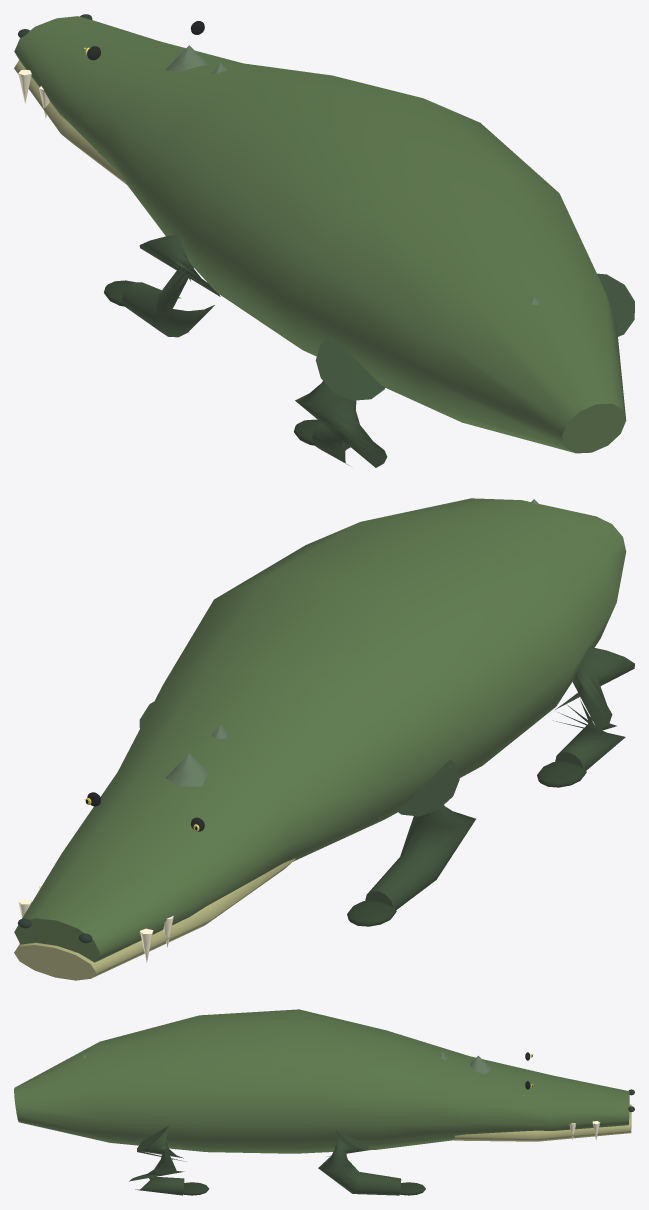
The model's file is crocodile_hero.glb.
3 renders of one model, top to bottom at view 1: azimuth 30°, elevation 25°; view 2: azimuth 150°, elevation 25°; view 3: azimuth 270°, elevation 25°, orthographic. The views are drawn at different scales.
Visible parts, largest first — view 1: CrocodileOrganicBody, Leg_LH, Leg_LF, LowerJaw, Leg_RH; view 2: CrocodileOrganicBody, Leg_LF, LowerJaw, Leg_LH, Paw_LF, Paw_LH, _MeshInstance3D_75; view 3: CrocodileOrganicBody, Leg_RF, Leg_RH, LowerJaw, Paw_RH, Paw_RF.
Part boxes in pixels (left/top/right/bottom): CrocodileOrganicBody: left=14, top=16, right=626, bottom=453; Leg_LH: left=295, top=336, right=387, bottom=467; Leg_LF: left=122, top=234, right=220, bottom=337; LowerJaw: left=14, top=60, right=126, bottom=184; Leg_RH: left=597, top=273, right=634, bottom=336; CrocodileOrganicBody: left=14, top=498, right=626, bottom=962; Leg_LF: left=365, top=759, right=475, bottom=909; LowerJaw: left=14, top=858, right=295, bottom=980; Leg_LH: left=553, top=646, right=634, bottom=770; Paw_LF: left=347, top=900, right=396, bottom=926; Paw_LH: left=537, top=761, right=586, bottom=787; _MeshInstance3D_75: left=165, top=753, right=207, bottom=786; CrocodileOrganicBody: left=14, top=1009, right=629, bottom=1153; Leg_RF: left=318, top=1130, right=401, bottom=1195; Leg_RH: left=129, top=1126, right=186, bottom=1195; LowerJaw: left=454, top=1104, right=631, bottom=1141; Paw_RH: left=180, top=1182, right=208, bottom=1195; Paw_RF: left=397, top=1182, right=425, bottom=1195.
Size of the model in its own units: 2.07 by 1.52 by 6.22.
